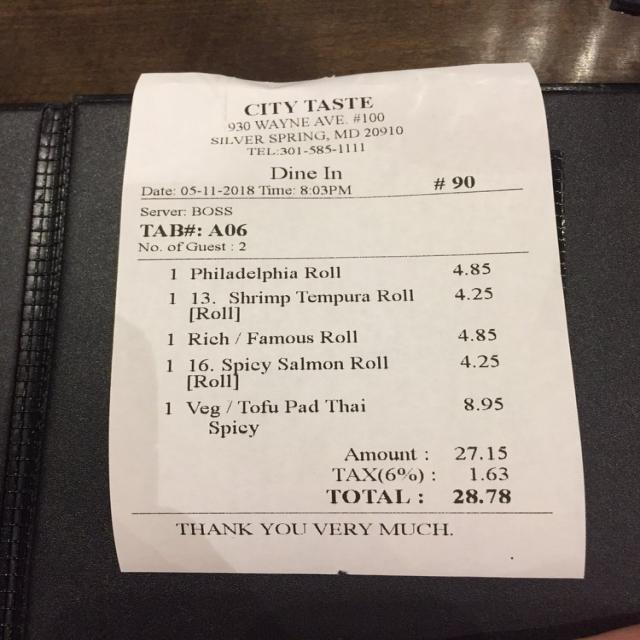Paper: (100, 59, 608, 580)
